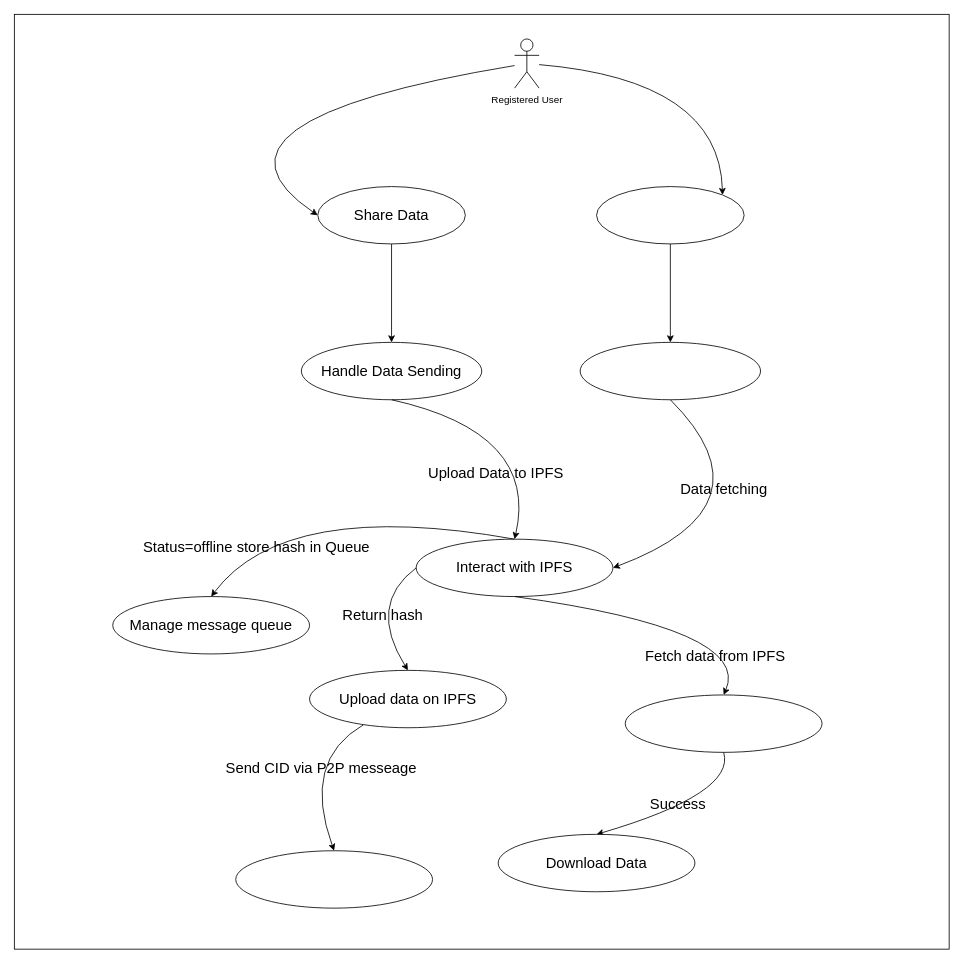
Image size: 964x964. Some labels were removed from this diagram. The centre of each missing label's shape, as x and y in pixels:
"Handle Data fetching" belongs at [670,371].
"Notify Receiver" belongs at [334,879].
"Receive Data" belongs at [670,215].
"Retrieve data from IPFS" belongs at [723,723].
